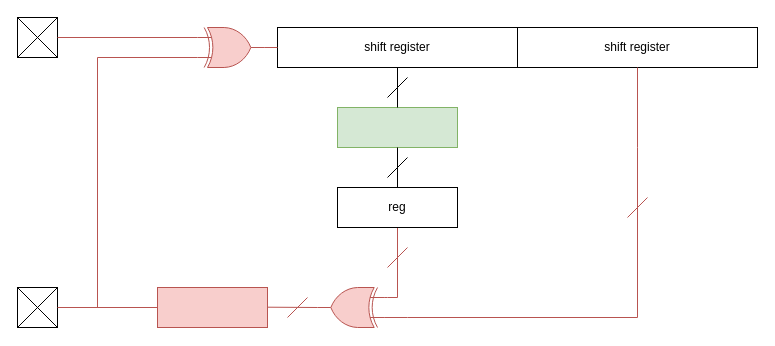
The diagram is 775 pixels wide and 346 high, and some of its shapes have lost their labels. Here are the shapes that lost their labels. From the top down, the box of each, then its label:
(336, 106, 458, 148): design under test
(156, 286, 268, 328): xor tree
